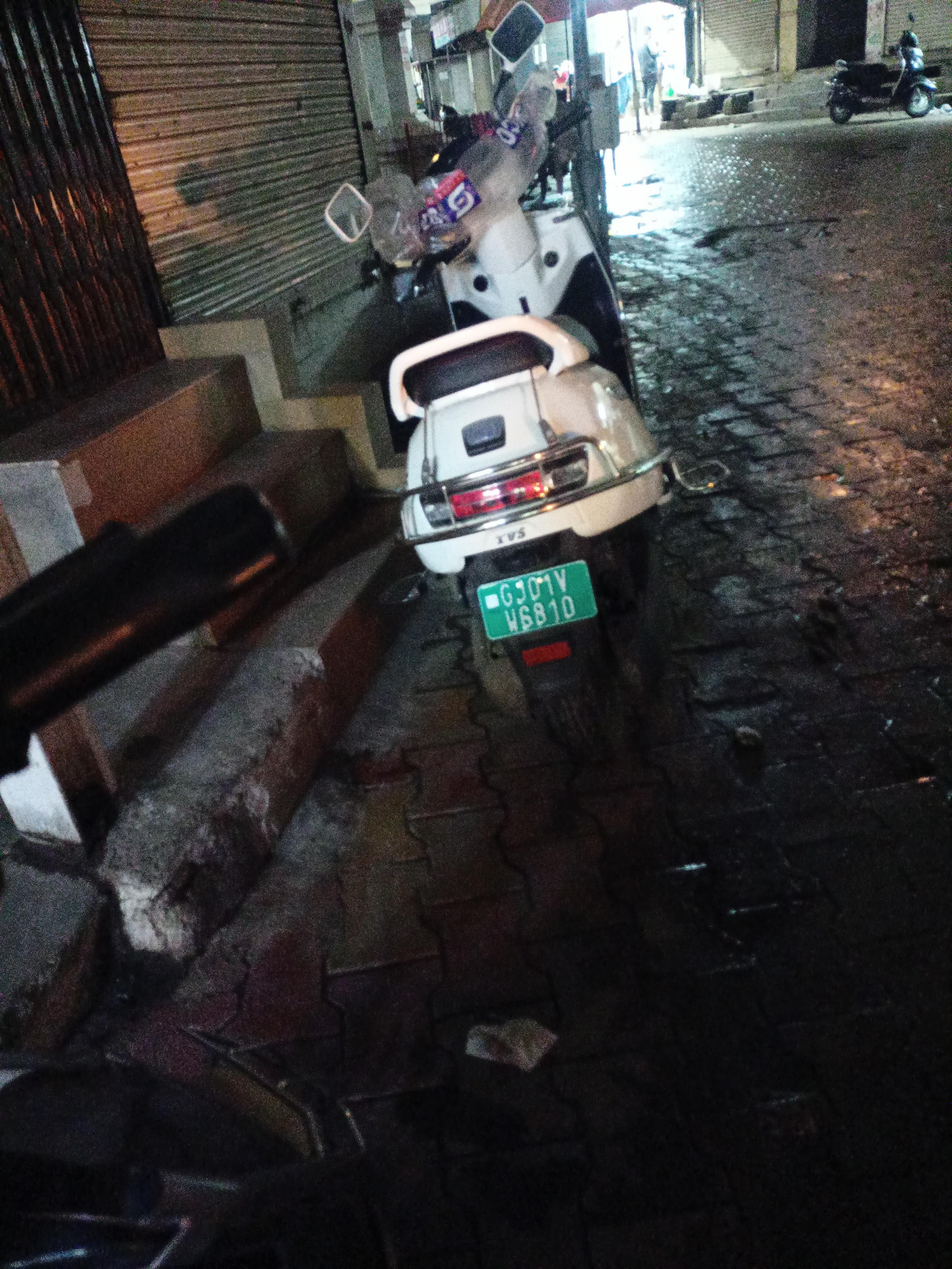green license plate: (474, 561, 594, 637)
